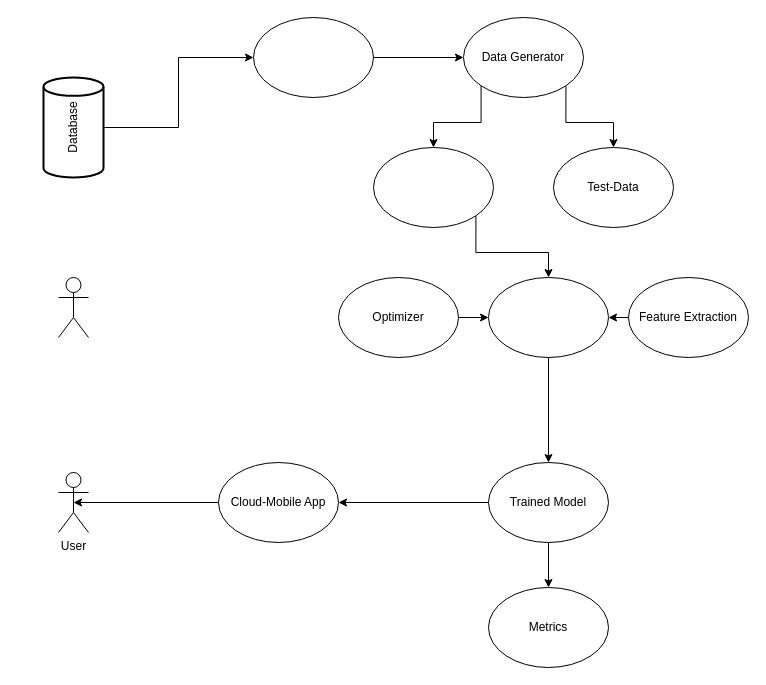
Some shapes in this 766 by 685 pixel diagram are drawn without their labels. The box of each missing label's shape, as (x1, y1, x2, y2) in pixels:
Data Processing: (252, 16, 374, 98)
Model Layers: (488, 276, 608, 358)
System Administrator: (58, 276, 88, 338)
Train-Data: (372, 146, 494, 228)
